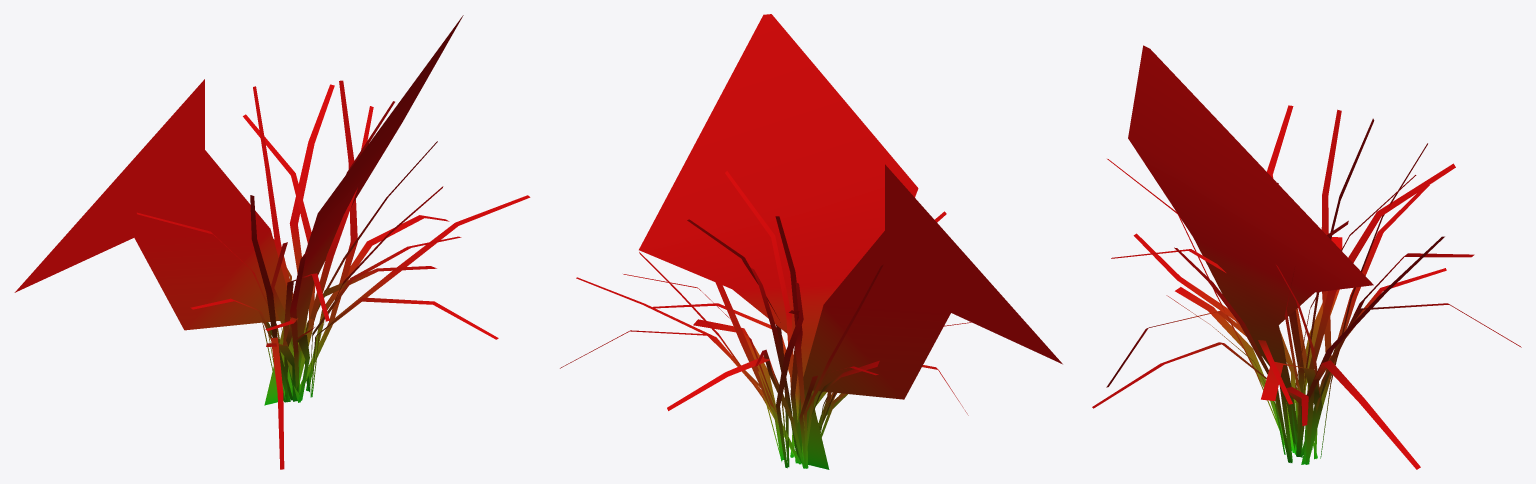
File: Var4_LOD1.fbx
3 views of the same model, side by side, from view 1: azimuth 30°, elevation 25°; view 2: azimuth 150°, elevation 25°; view 3: azimuth 270°, elevation 25° (orthographic). The views are drawn at different scales.
Parts seen in each view (by area): view 1: _71af_Var4_LOD1; view 2: _71af_Var4_LOD1; view 3: _71af_Var4_LOD1.
Boxes of the visible parts, x1,y1,x2,y2 form: _71af_Var4_LOD1: (14, 15, 530, 469); _71af_Var4_LOD1: (560, 14, 1062, 469); _71af_Var4_LOD1: (1092, 45, 1521, 469).
Bounding box in the file's own units: 86.14 × 64.53 × 53.95.
